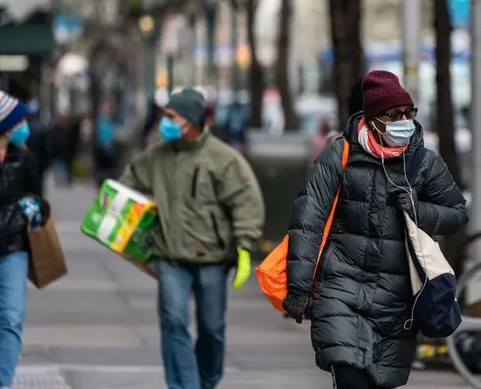face_with_mask: (357, 68, 418, 146), (158, 90, 212, 142), (1, 91, 33, 148)
